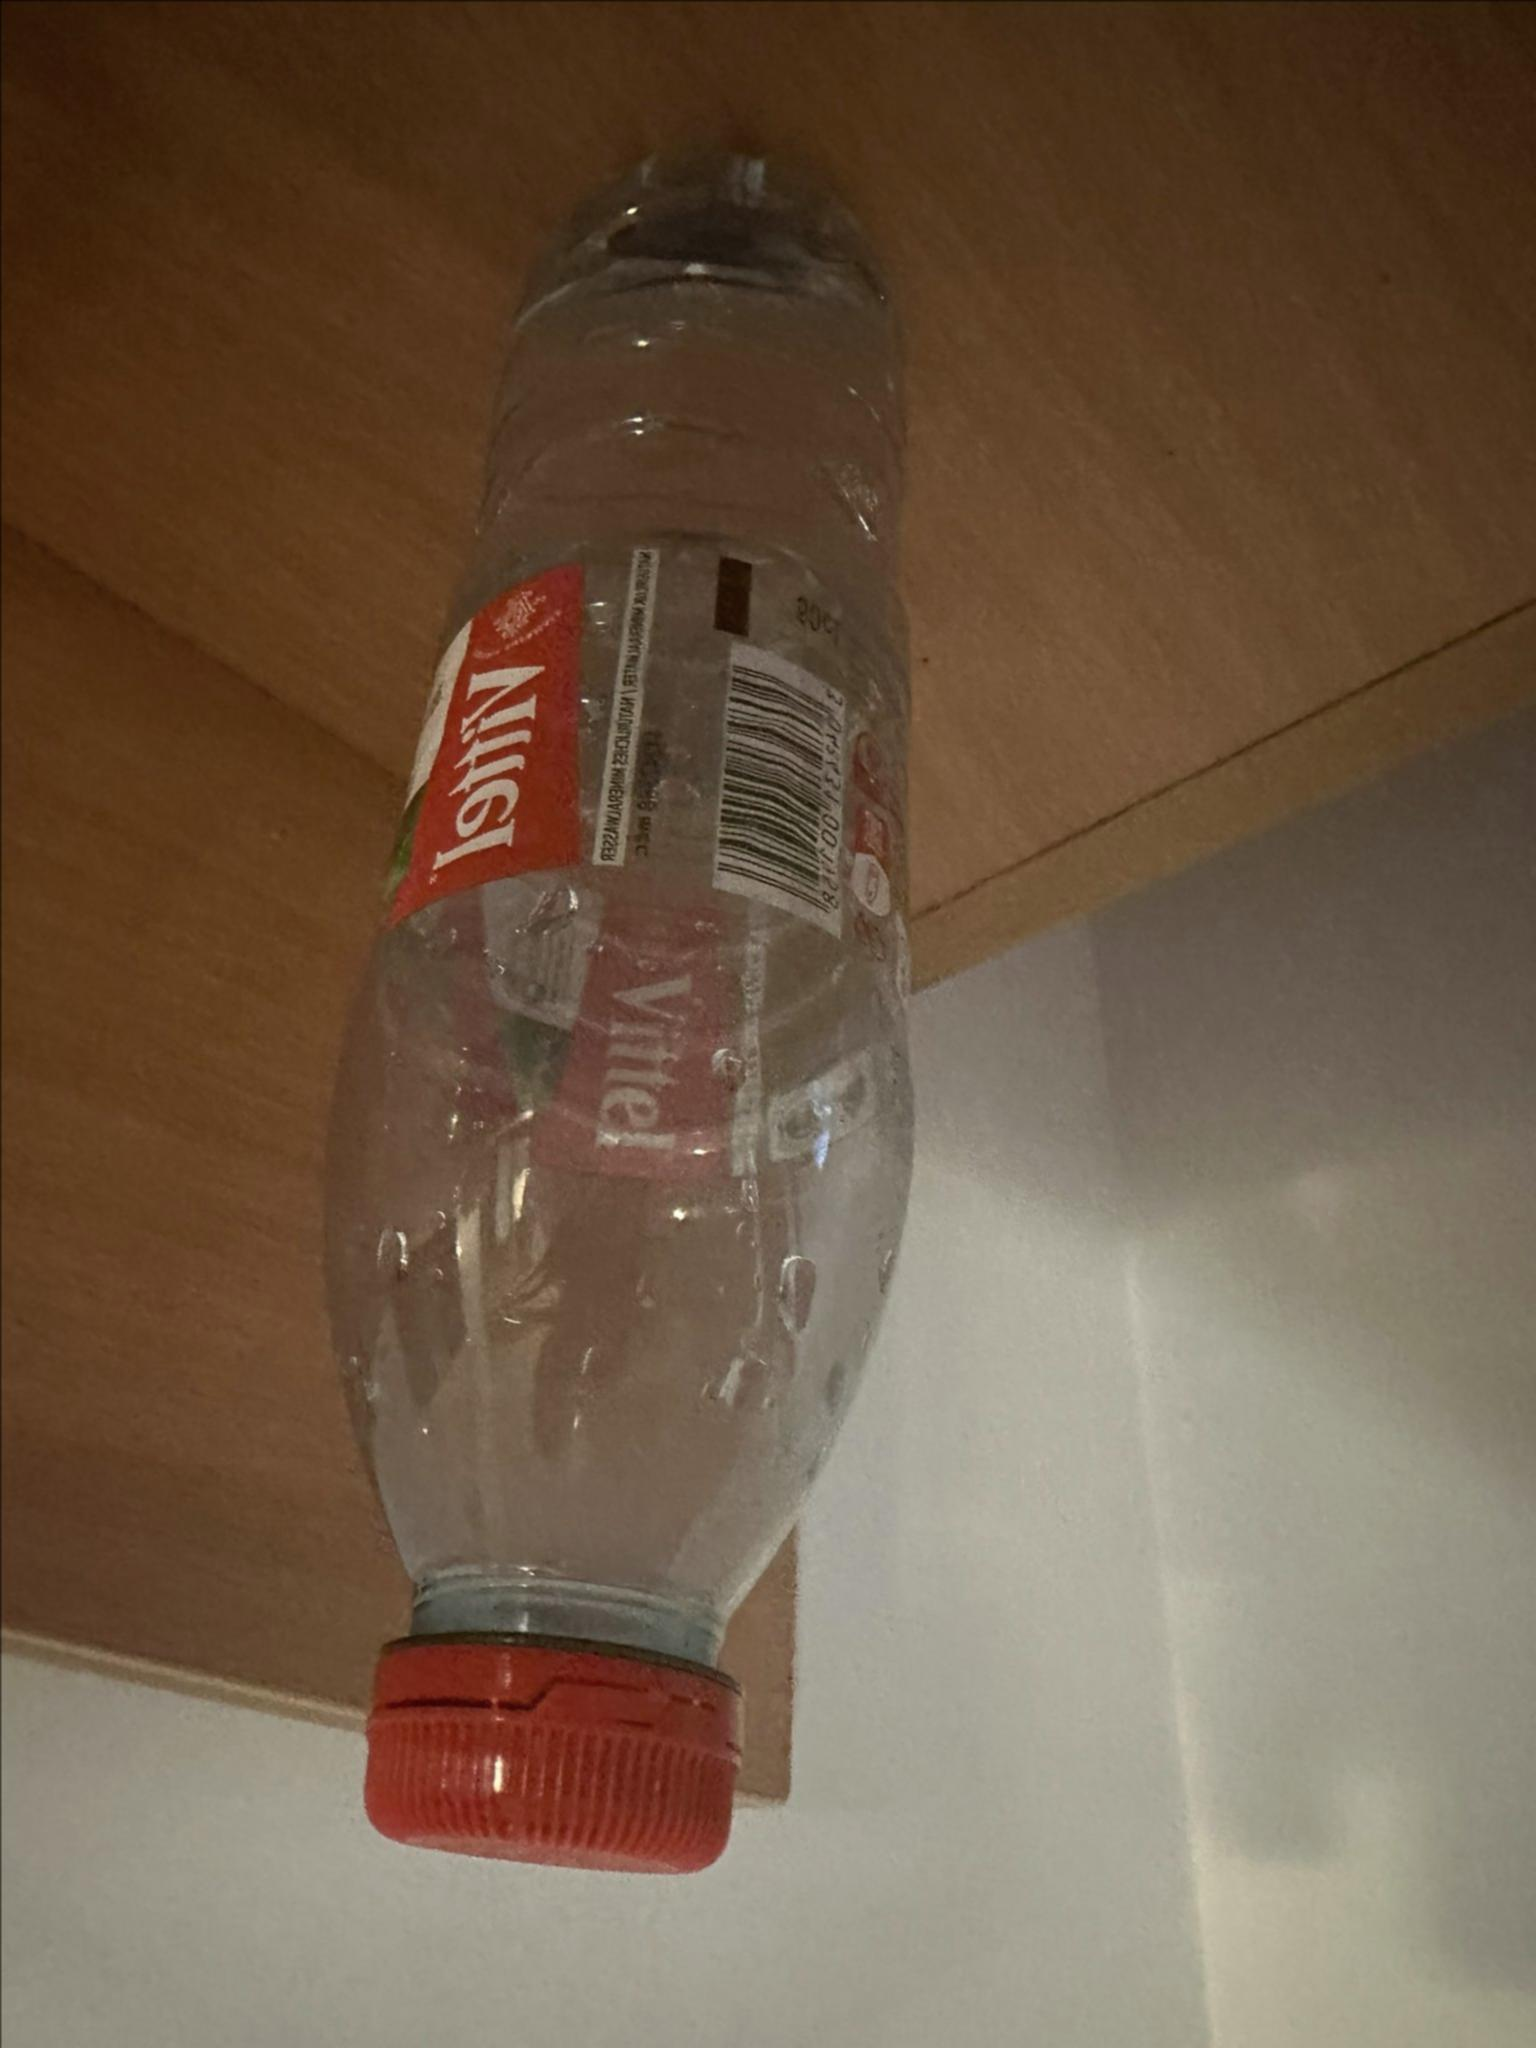PET: (318, 148, 916, 1875)
plastic: (318, 148, 916, 1875)
vittel: (318, 148, 916, 1875)
water: (318, 148, 916, 1875)
